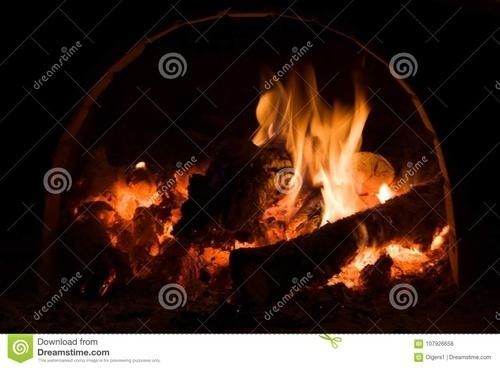fire: (252, 63, 376, 229), (326, 229, 447, 285), (430, 221, 450, 250), (376, 178, 396, 203)
